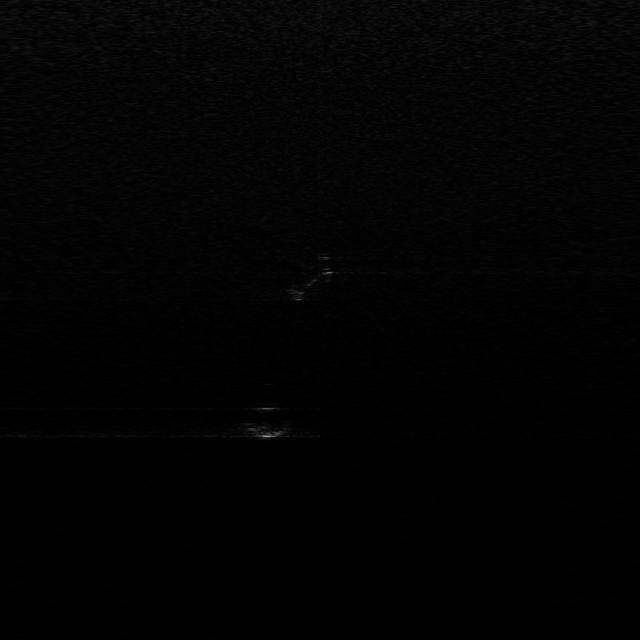ball: (243, 405, 293, 440)
tyre: (286, 260, 333, 301)
